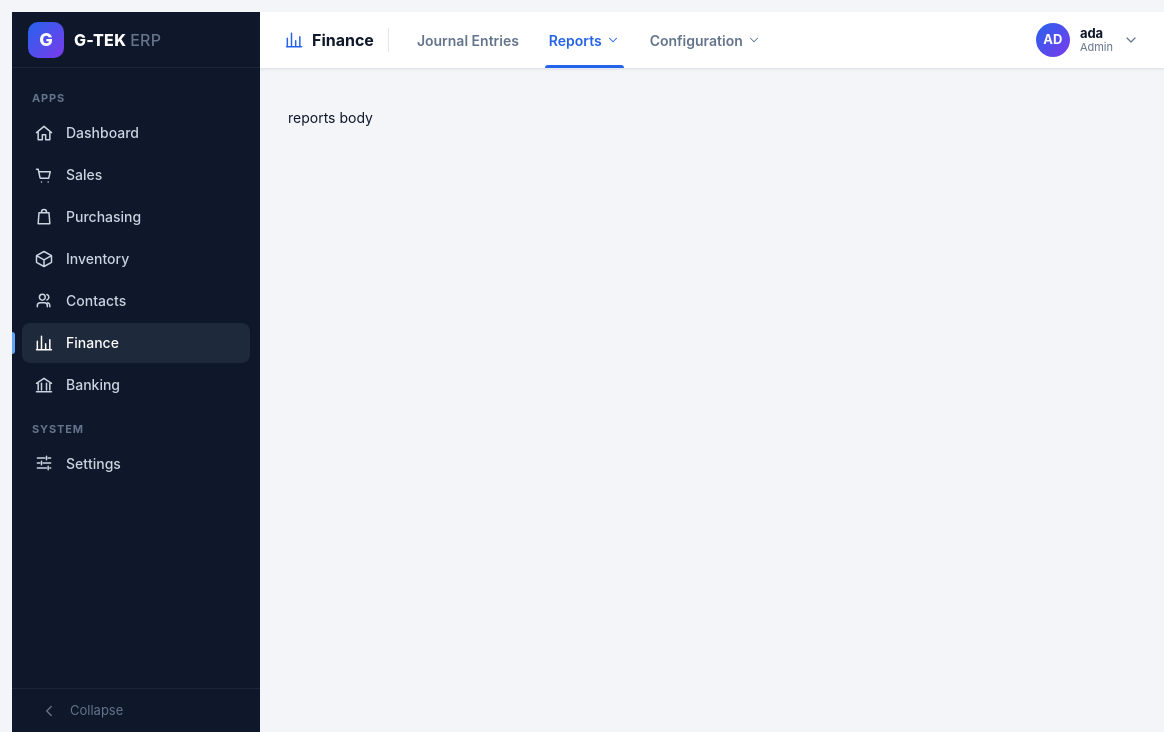
AppShell › opens a dropdown of sub-pages from a ribbon tab
This screenshot has width=1164, height=732.
Step 1. Click the button "Configuration" → (705, 40), box [636, 12, 775, 68]
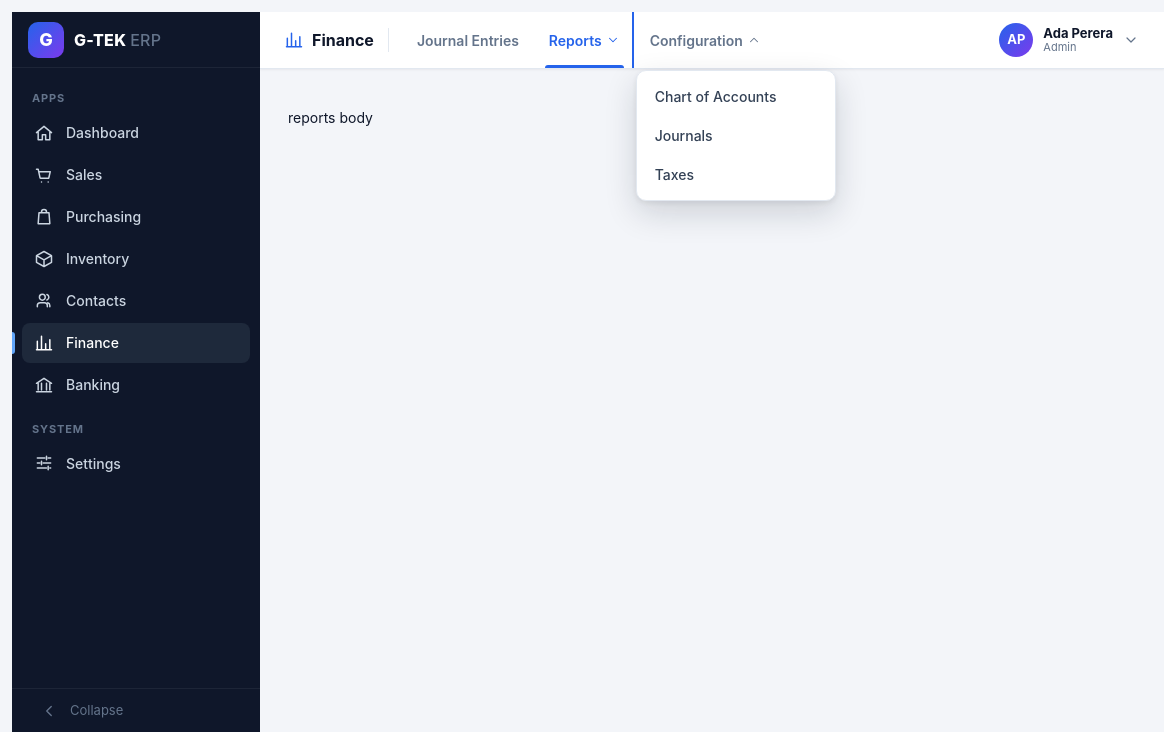
Expected: the menu item "Taxes" is shown, [655, 166, 694, 183]
Step 2. Press Escape
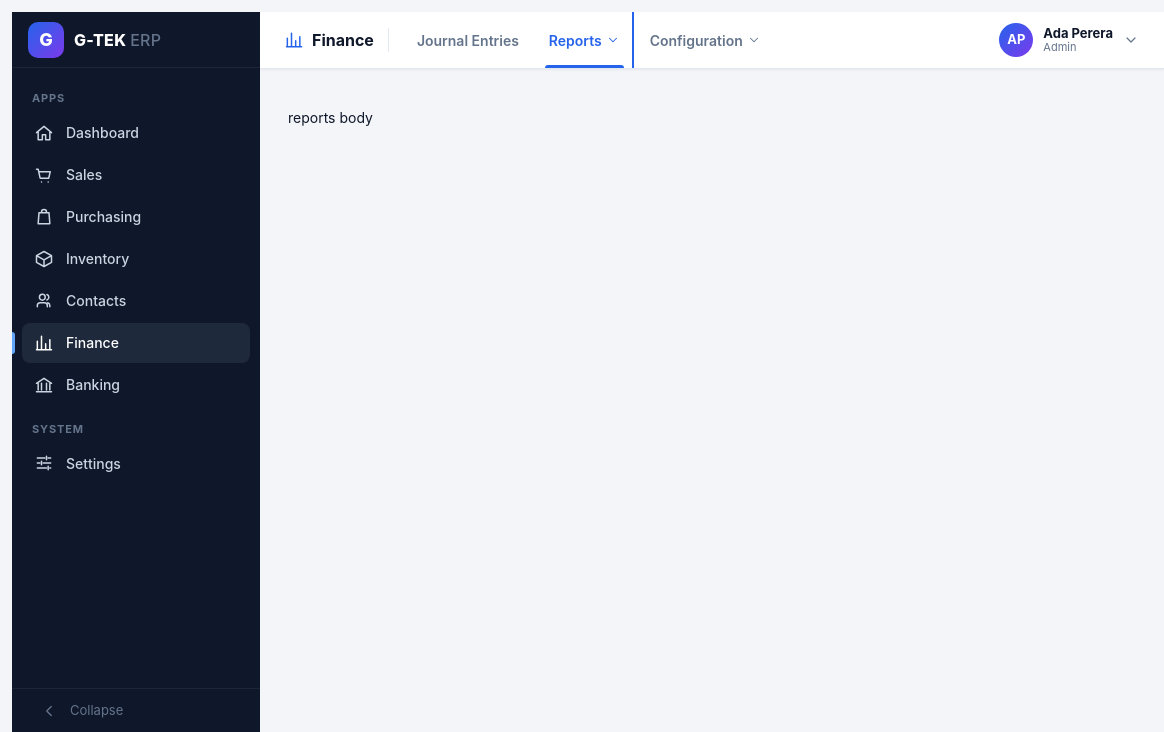
Expected: the menu is gone
